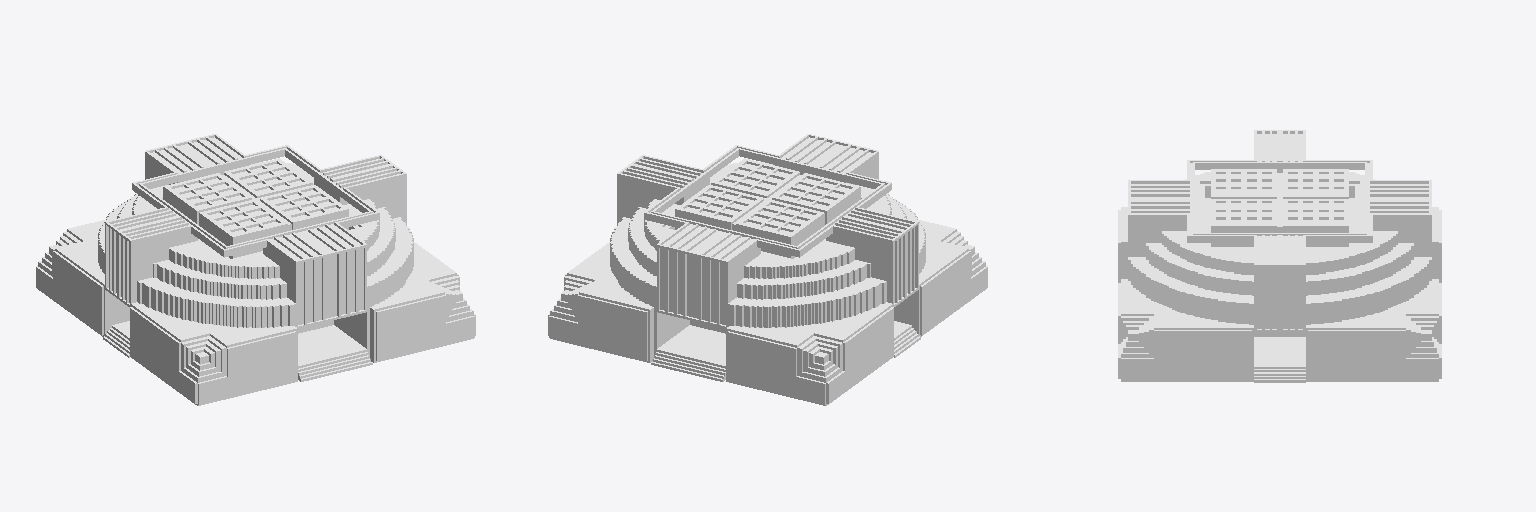
The model's file is Green_Kuang.obj.
The picture shows the model from 3 angles: view 1: azimuth 30°, elevation 25°; view 2: azimuth 150°, elevation 25°; view 3: azimuth 270°, elevation 25°; orthographic projection.
Visible parts, largest first — view 1: Green_Kuang; view 2: Green_Kuang; view 3: Green_Kuang.
Part boxes in pixels (x1,y1,x2,y2): Green_Kuang: (36, 134, 475, 405); Green_Kuang: (548, 134, 987, 405); Green_Kuang: (1118, 130, 1441, 382).
Bounding box in the file's own units: 126 × 50 × 126.